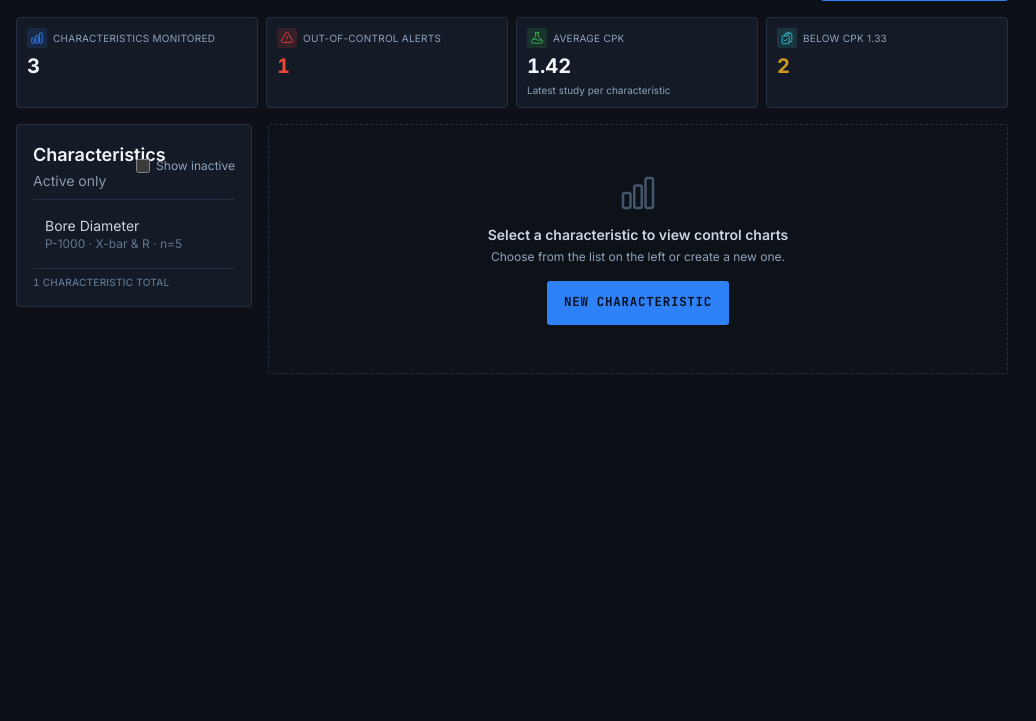
Scenario: SPC page — API contract › renders measurements newest-first from measurement_value, with no Measured By column
The image size is (1036, 721).
Click the button "Bore Diameter P-1000 · X-bar & R · n=5" at (132, 234), box 33,208 -> 231,260
(page scrolled)
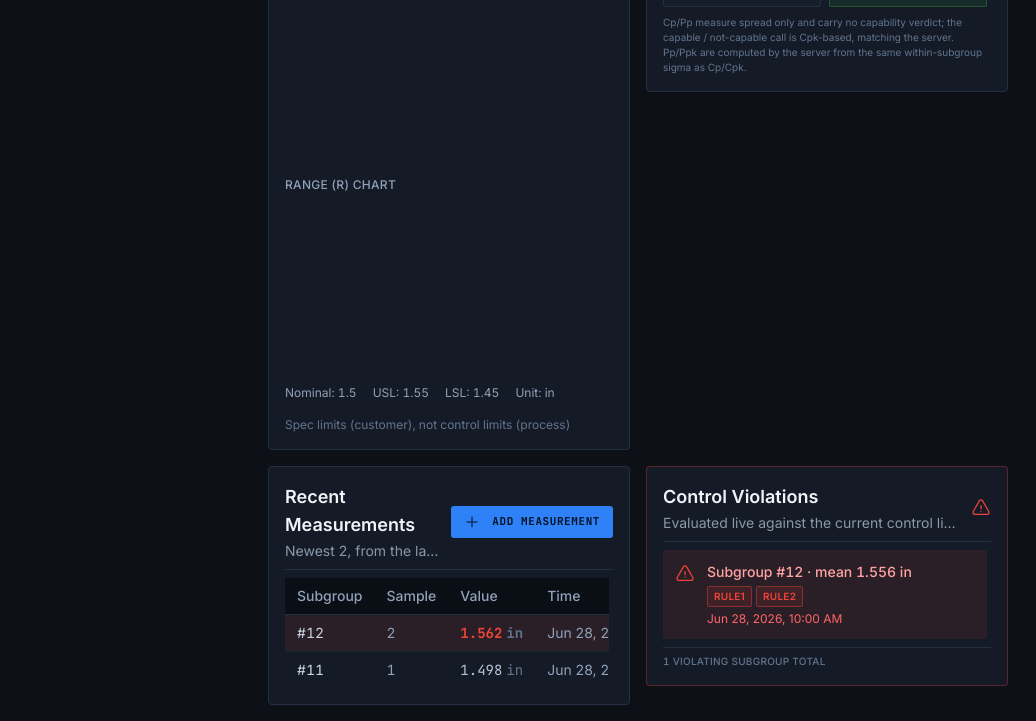
Expected: the text "#12" is shown, 285,614 -> 374,651
Expected: the text "1.562" is shown, 460,624 -> 502,642
Expected: the text "#11" is shown, 285,651 -> 374,688
